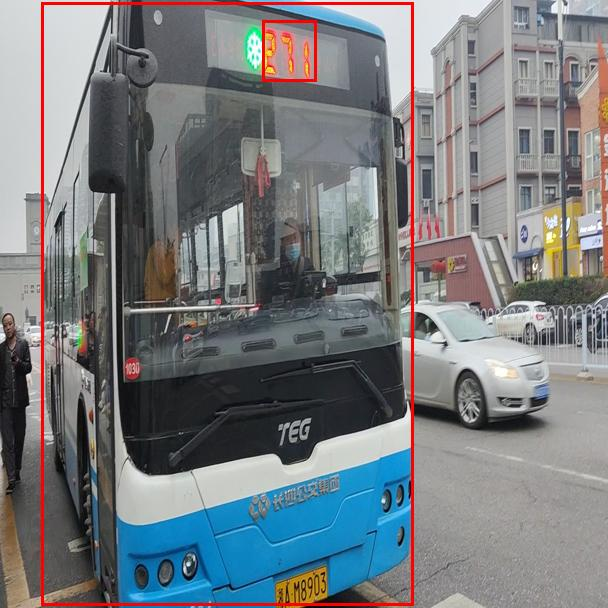bus: (41, 2, 413, 605)
screen: (262, 20, 316, 81)
